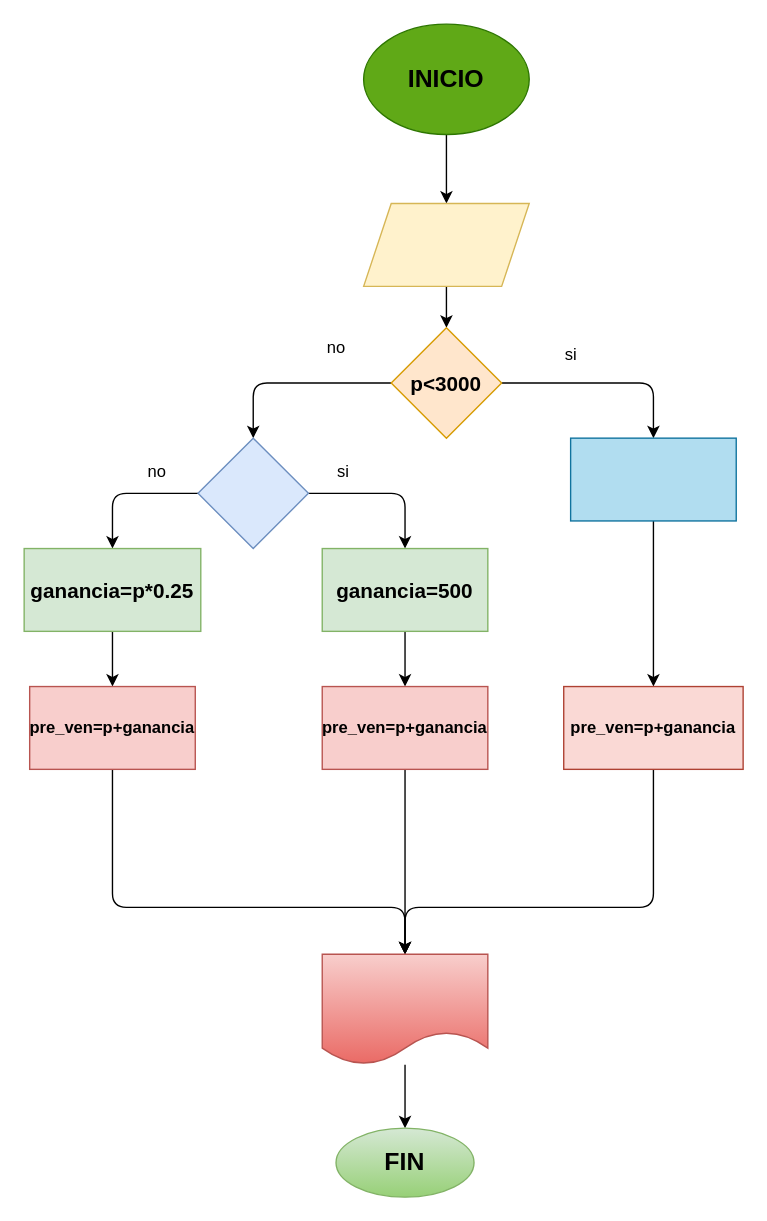
This 767x1221 diagram has some shape labels left out. Each missing label, with the centre of its shape:
"ganancia=p*0.15" belongs at pixel 652 479.
"p<=6000" belongs at pixel 252 493.
"p=precio_costo" belongs at pixel 445 244.
"pre_ven" belongs at pixel 404 1009.
